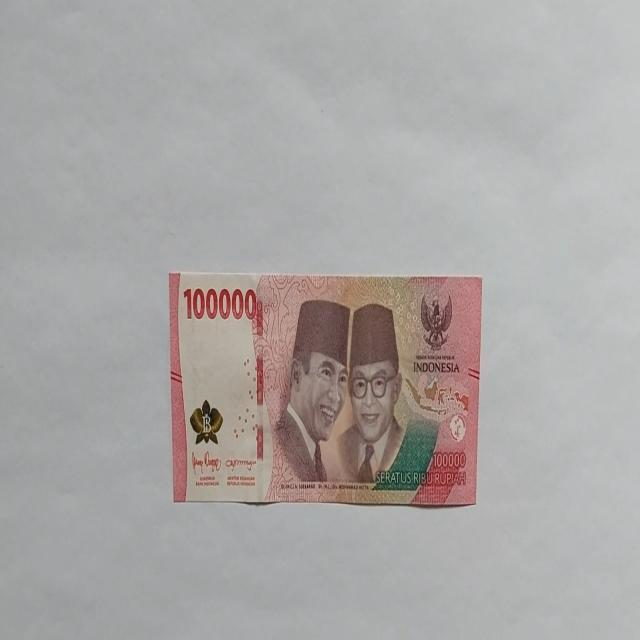seratus ribu rupiah: (168, 270, 482, 508)
